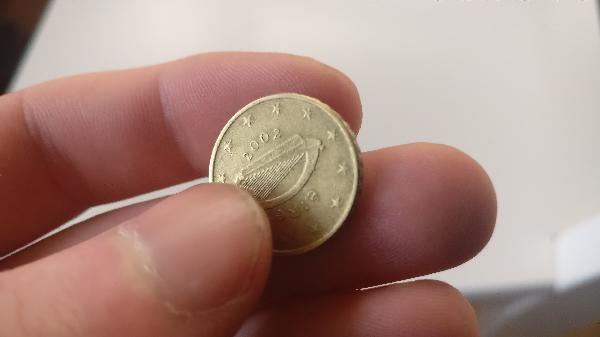Ten Cent: (192, 94, 370, 264)
